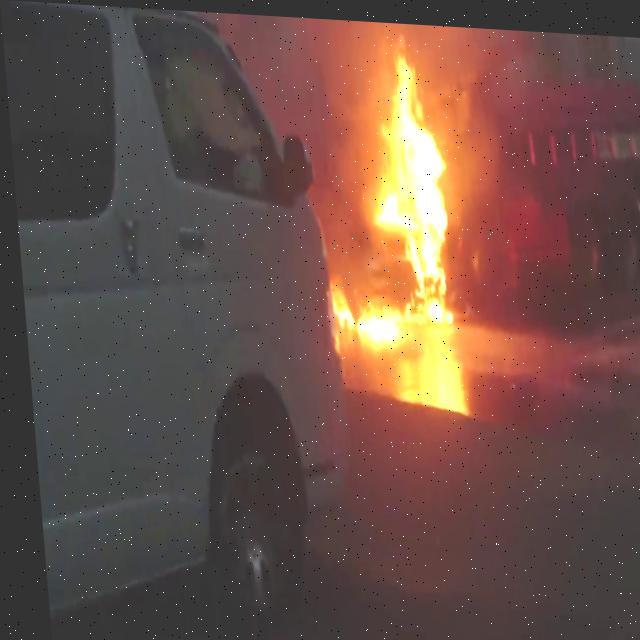Fire: (362, 50, 455, 318), (324, 276, 398, 342)
